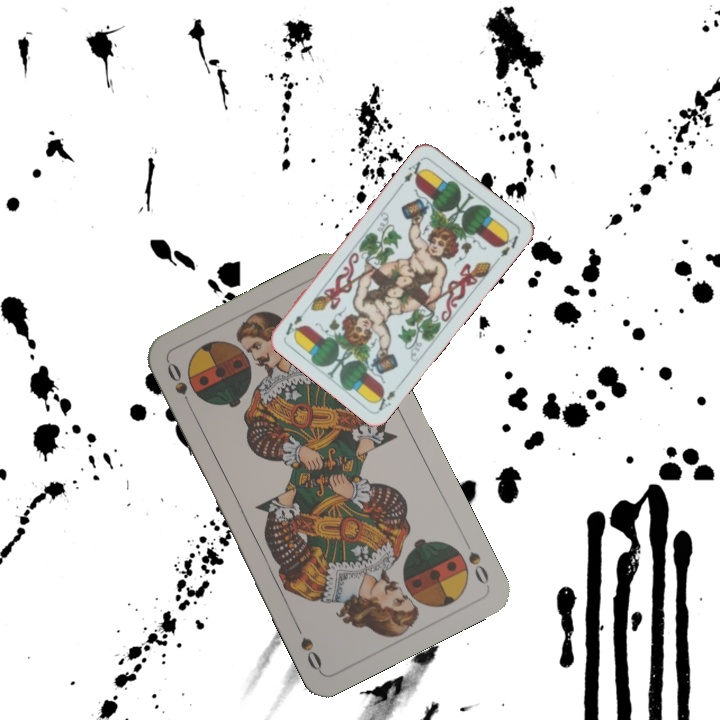EA: (396, 154, 428, 189), (371, 379, 403, 413)
SO: (163, 358, 196, 413), (459, 533, 492, 588)
